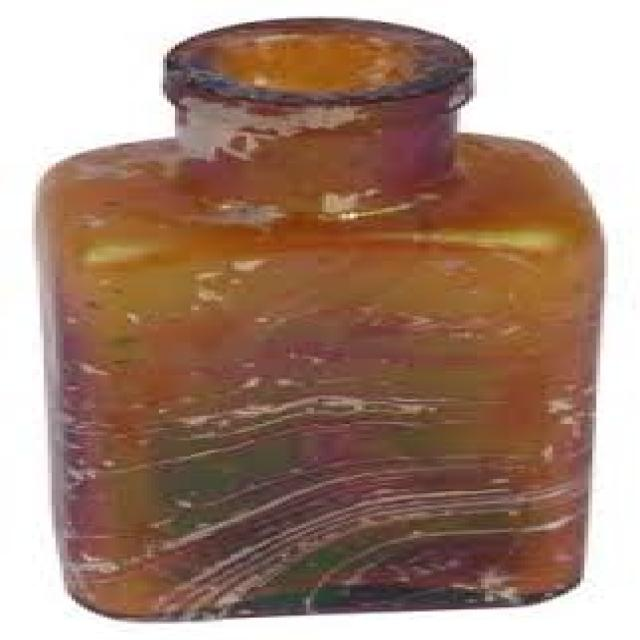glass: (36, 18, 600, 620)
